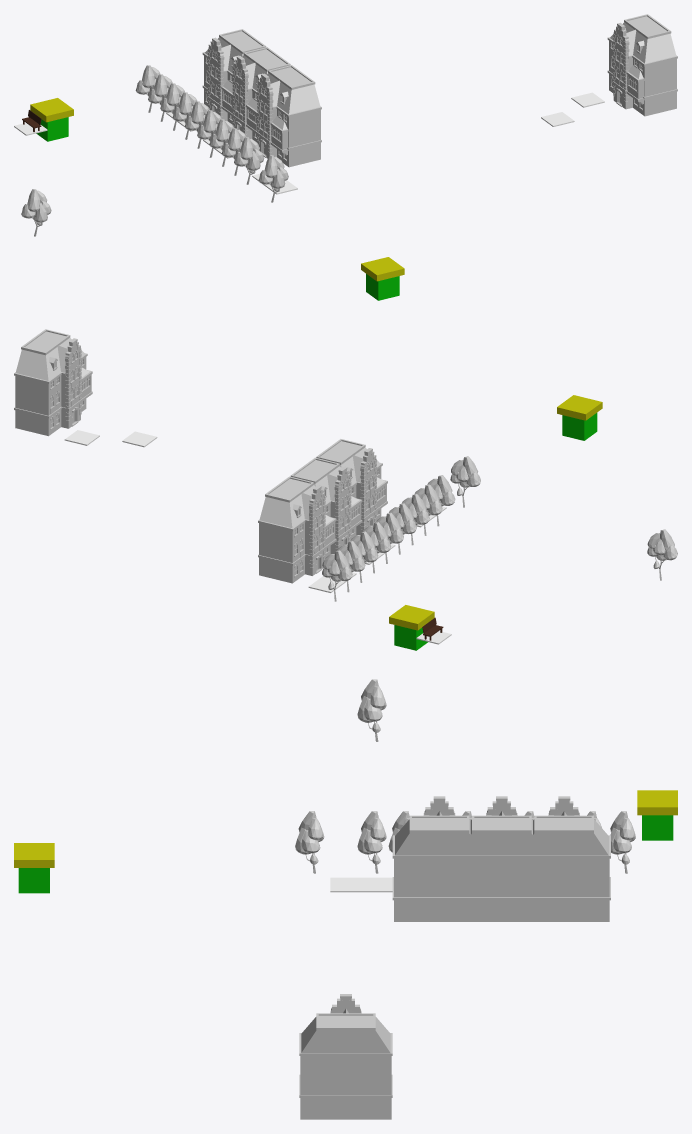
Rendered from Flotsman.fbx.
3 renders of one model, top to bottom at view 1: azimuth 30°, elevation 25°; view 2: azimuth 150°, elevation 25°; view 3: azimuth 270°, elevation 25°, orthographic. The views are drawn at different scales.
Visible parts, largest first — view 1: Main-2-1 (×4), Birchtree(Clone) (×11), Cube.001 (×2), Cube (×2), WallExtension-2-1 (×2); view 2: Main-2-1 (×4), Birchtree(Clone) (×11), Cube.001 (×2), Cube (×2); view 3: Main-2-1 (×4), Birchtree(Clone) (×4), Cube.001 (×2), Cube (×2).
Boxes of the visible parts, left/top/right/bottom form: Main-2-1 (×4): left=202, top=14, right=677, bottom=167; Birchtree(Clone) (×11): left=21, top=65, right=288, bottom=236; Cube.001 (×2): left=30, top=98, right=404, bottom=281; Cube (×2): left=36, top=117, right=399, bottom=300; WallExtension-2-1 (×2): left=270, top=65, right=644, bottom=154; Main-2-1 (×4): left=14, top=329, right=382, bottom=583; Birchtree(Clone) (×11): left=322, top=456, right=677, bottom=601; Cube.001 (×2): left=389, top=395, right=602, bottom=630; Cube (×2): left=394, top=413, right=597, bottom=650; Main-2-1 (×4): left=299, top=796, right=610, bottom=1119; Birchtree(Clone) (×4): left=295, top=679, right=635, bottom=873; Cube.001 (×2): left=14, top=790, right=677, bottom=867; Cube (×2): left=18, top=815, right=673, bottom=893.
Size of what is drawn, in the model's own units: 29.44 by 4.08 by 21.3.
